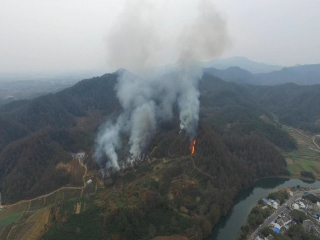smoke: (91, 7, 230, 175)
